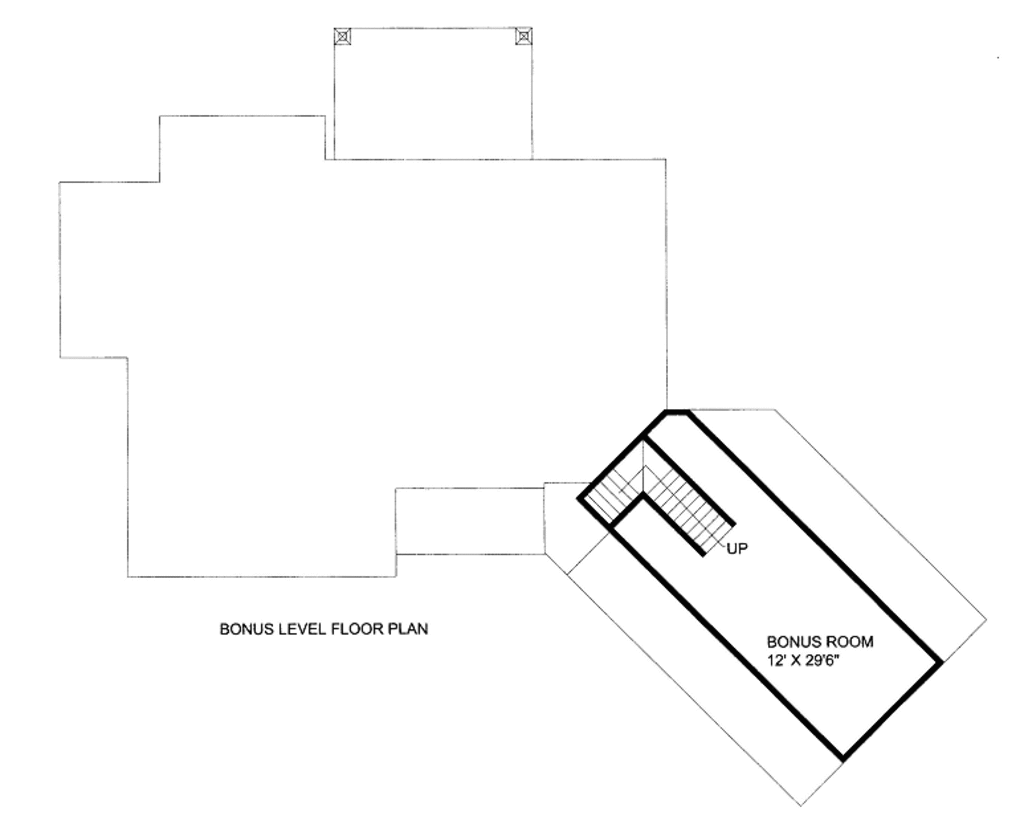stairs: (577, 421, 753, 560)
